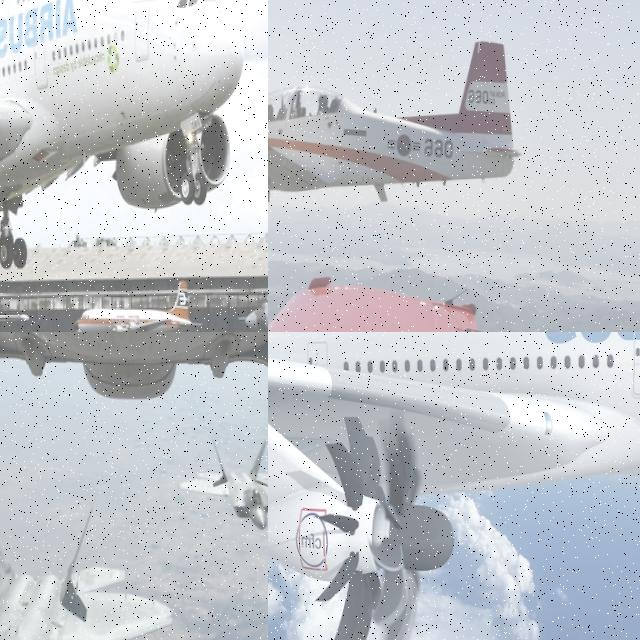A380: (268, 332, 640, 640), (0, 0, 245, 283)
F22: (0, 500, 183, 640), (177, 438, 268, 540)
KT-1: (268, 24, 515, 202)
